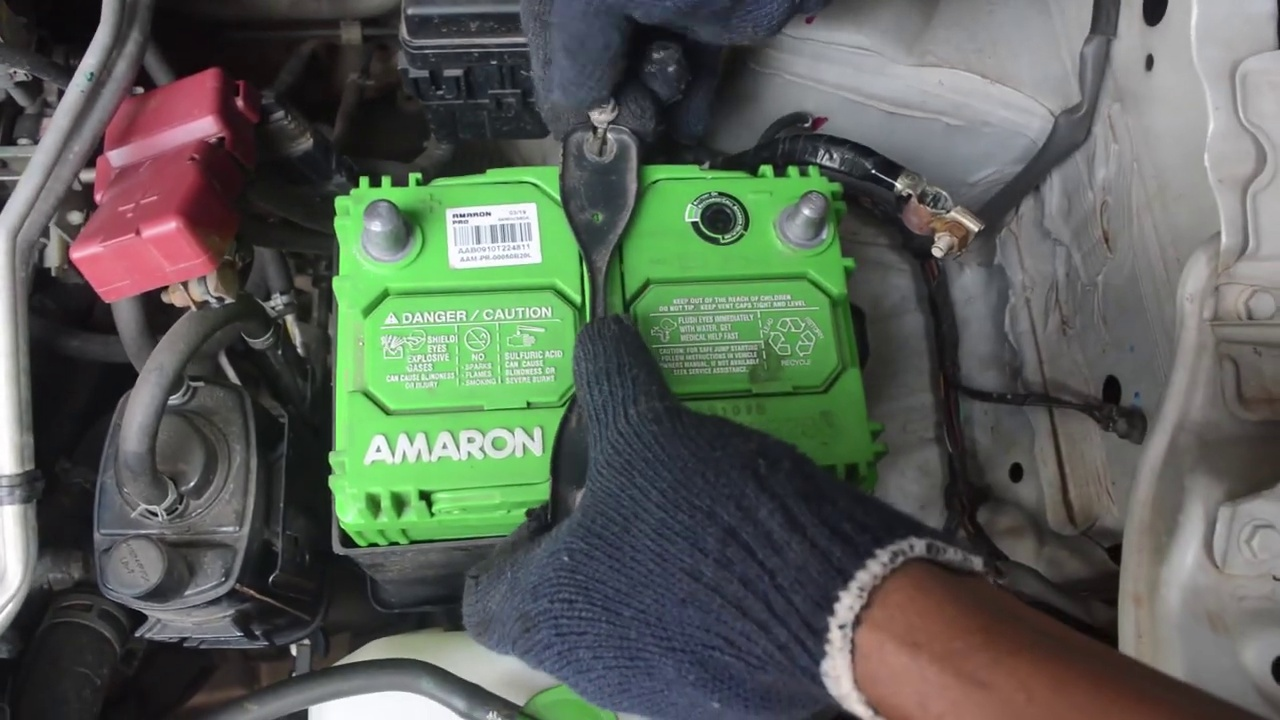battery: (311, 166, 900, 519), (72, 83, 421, 304)
neg_disconnected: (740, 168, 878, 277)
